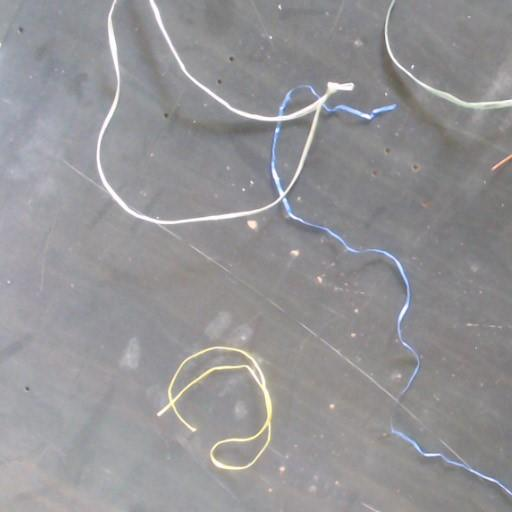conveyor belt: (102, 0, 276, 216), (389, 0, 511, 98), (276, 118, 308, 187), (284, 89, 315, 113)
thread: (96, 0, 420, 394), (96, 0, 353, 225), (157, 346, 272, 470), (384, 0, 511, 109), (391, 422, 511, 496)
